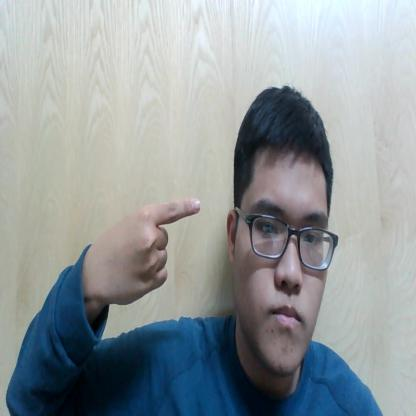left: (94, 186, 202, 308)
